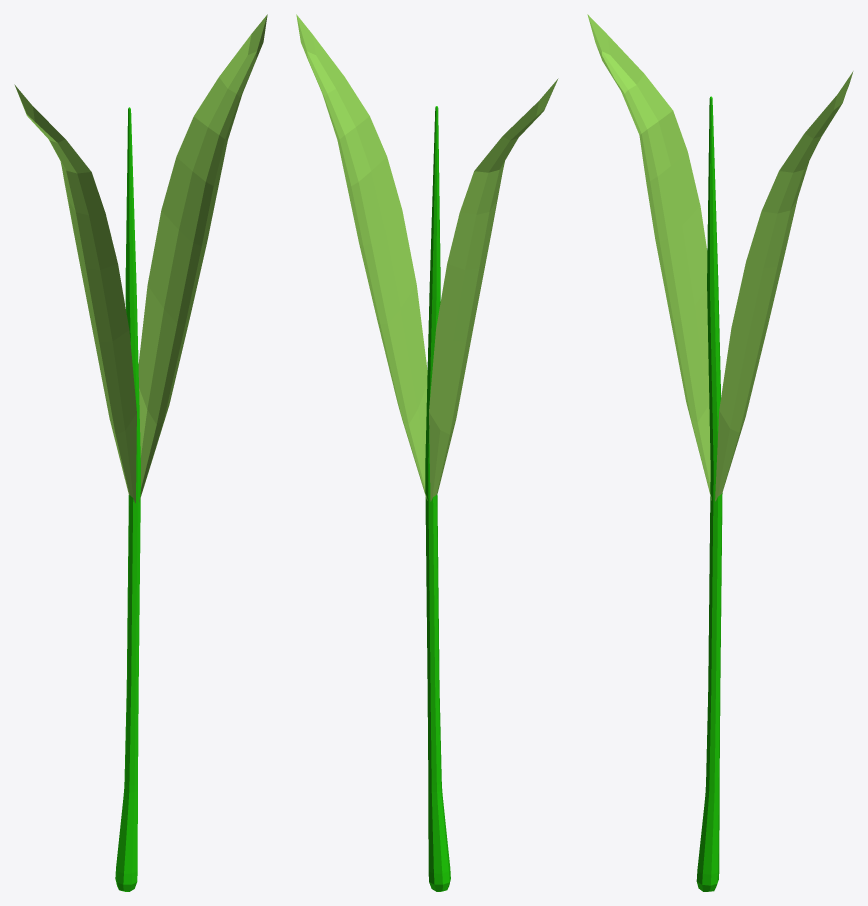
File: Pad1.fbx
3 views of the same model, side by side, from view 1: azimuth 30°, elevation 25°; view 2: azimuth 150°, elevation 25°; view 3: azimuth 330°, elevation 25° (orthographic).
Parts seen in each view (by area): view 1: Plane; view 2: Plane; view 3: Plane.
Part boxes in pixels (x1,y1,x2,y2): Plane: (14, 14, 267, 891); Plane: (296, 14, 558, 891); Plane: (587, 14, 853, 891).
Size of the model in its own units: 387 by 1208 by 116.
